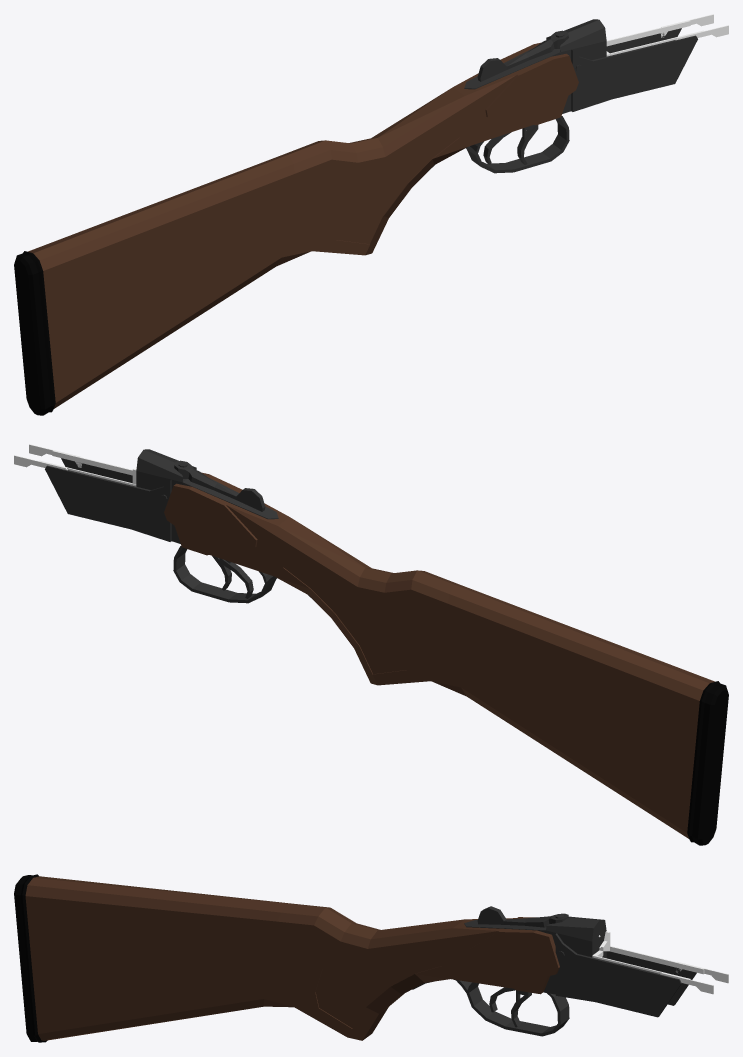
File: toz-34.glb
3 renders of one model, top to bottom at view 1: azimuth 30°, elevation 25°; view 2: azimuth 150°, elevation 25°; view 3: azimuth 330°, elevation 25°, orthographic.
Visible parts, largest first — view 1: toz-34_5 (×4), toz34 lock lever_6, toz34 left (uo) extractor_4; view 2: toz-34_5 (×4), toz34 lock lever_6, toz34 right (down) extractor_3; view 3: toz-34_5 (×4), toz34 left (uo) extractor_4, toz34 lock lever_6, toz34 right (down) extractor_3, toz34 front trigga_8.
Part boxes in pixels (x1,y1,x2,y2): toz-34_5 (×4): [14, 19, 697, 415]; toz34 lock lever_6: [477, 30, 568, 81]; toz34 left (uo) extractor_4: [606, 14, 713, 46]; toz-34_5 (×4): [45, 449, 728, 845]; toz34 lock lever_6: [174, 460, 265, 511]; toz34 right (down) extractor_3: [29, 444, 132, 475]; toz-34_5 (×4): [14, 874, 696, 1042]; toz34 left (uo) extractor_4: [599, 931, 728, 983]; toz34 lock lever_6: [477, 906, 568, 927]; toz34 right (down) extractor_3: [592, 950, 713, 994]; toz34 front trigga_8: [511, 990, 531, 1027].
Bounding box in the file's own units: 9.16 × 3.23 × 0.4621.
